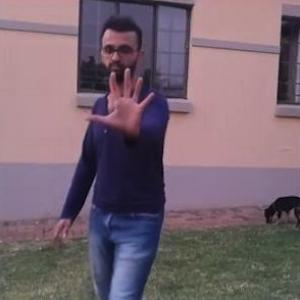follow_hand: (83, 63, 159, 139)
